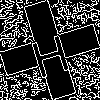H: (25, 25, 73, 79)
